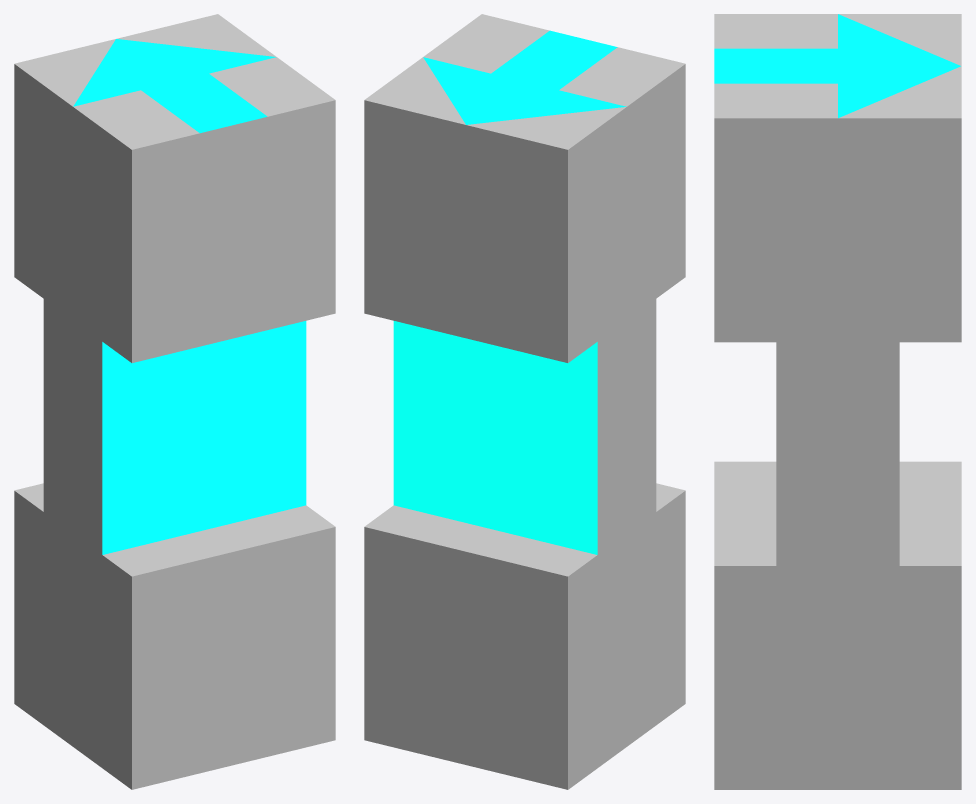
File: inoutG.glb
3 renders of one model, left to right at view 1: azimuth 30°, elevation 25°; view 2: azimuth 150°, elevation 25°; view 3: azimuth 270°, elevation 25°, orthographic. The views are drawn at different scales.
Visible parts, largest first — view 1: Cube; view 2: Cube; view 3: Cube.
Boxes of the visible parts, box(x1,y1,x2,y2) form: Cube: box(14, 14, 335, 789); Cube: box(364, 14, 685, 789); Cube: box(714, 14, 961, 789).
Bounding box in the file's own units: 1 × 3 × 1.
